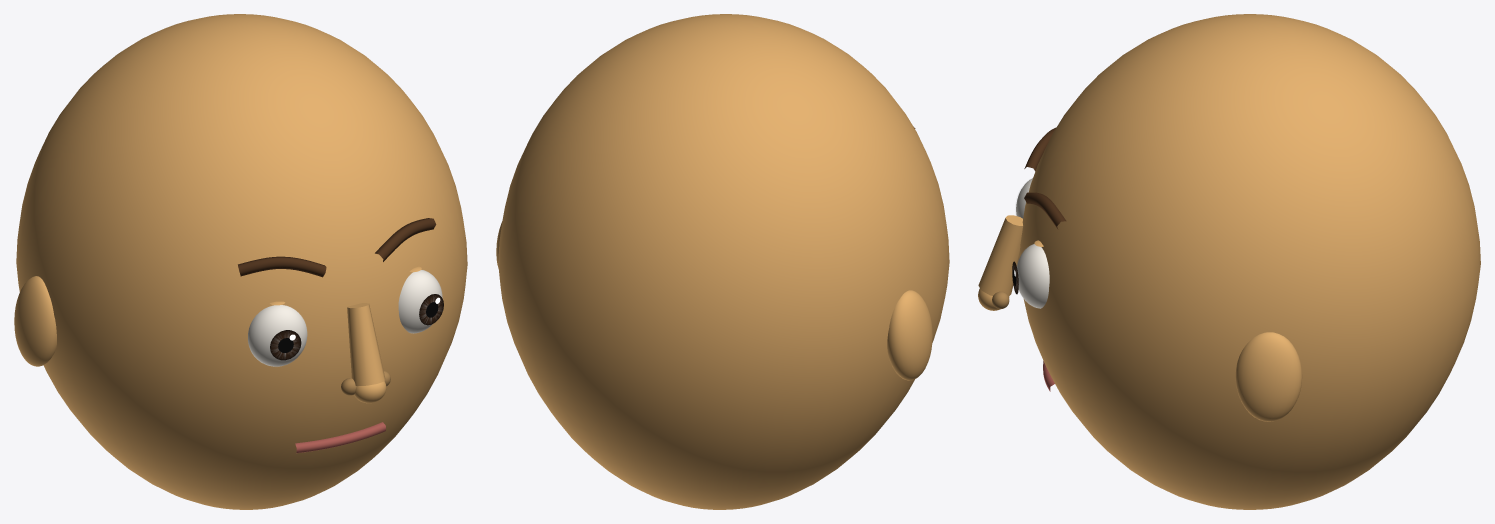
File: 03-petits-yeux.glb
The picture shows the model from 3 angles, left to right: view 1: azimuth 30°, elevation 25°; view 2: azimuth 150°, elevation 25°; view 3: azimuth 270°, elevation 25°; orthographic projection.
Size of the model in its own units: 0.3087 by 0.321 by 0.3166.
Materials: 9 (1 with a texture image).
